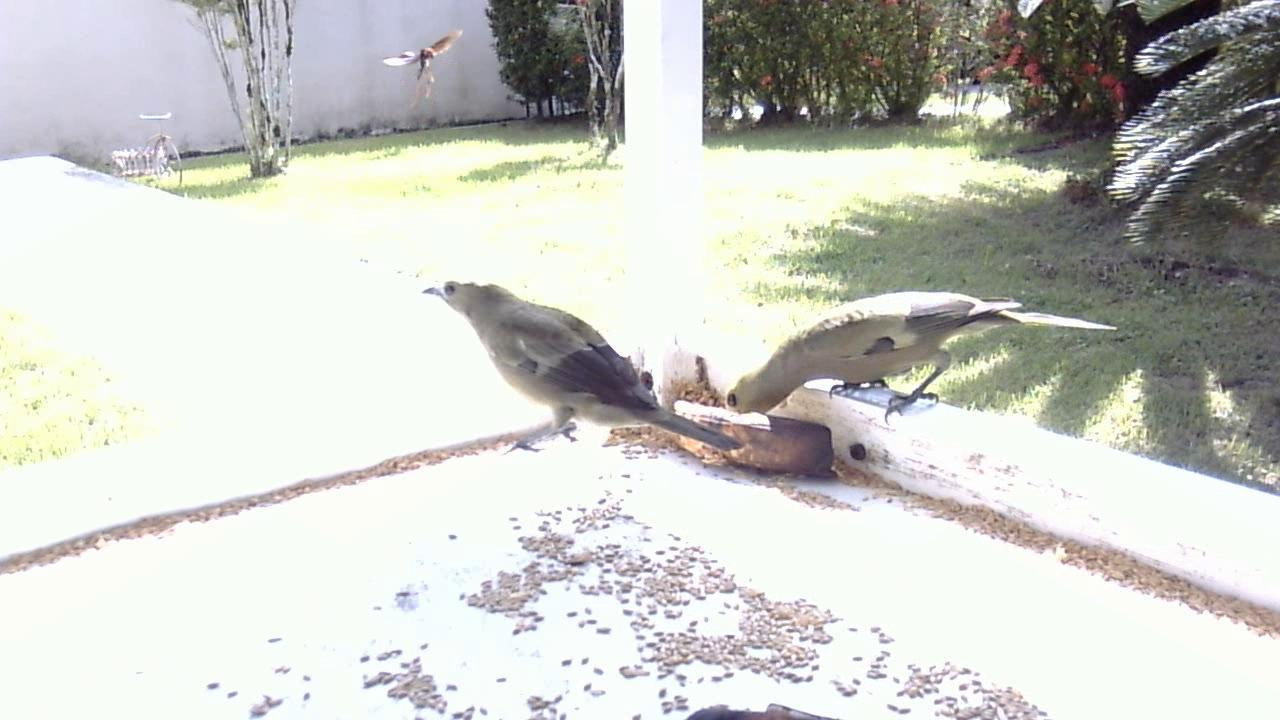sanhaco_do_coqueiro: (417, 267, 796, 485), (737, 282, 1117, 436)
